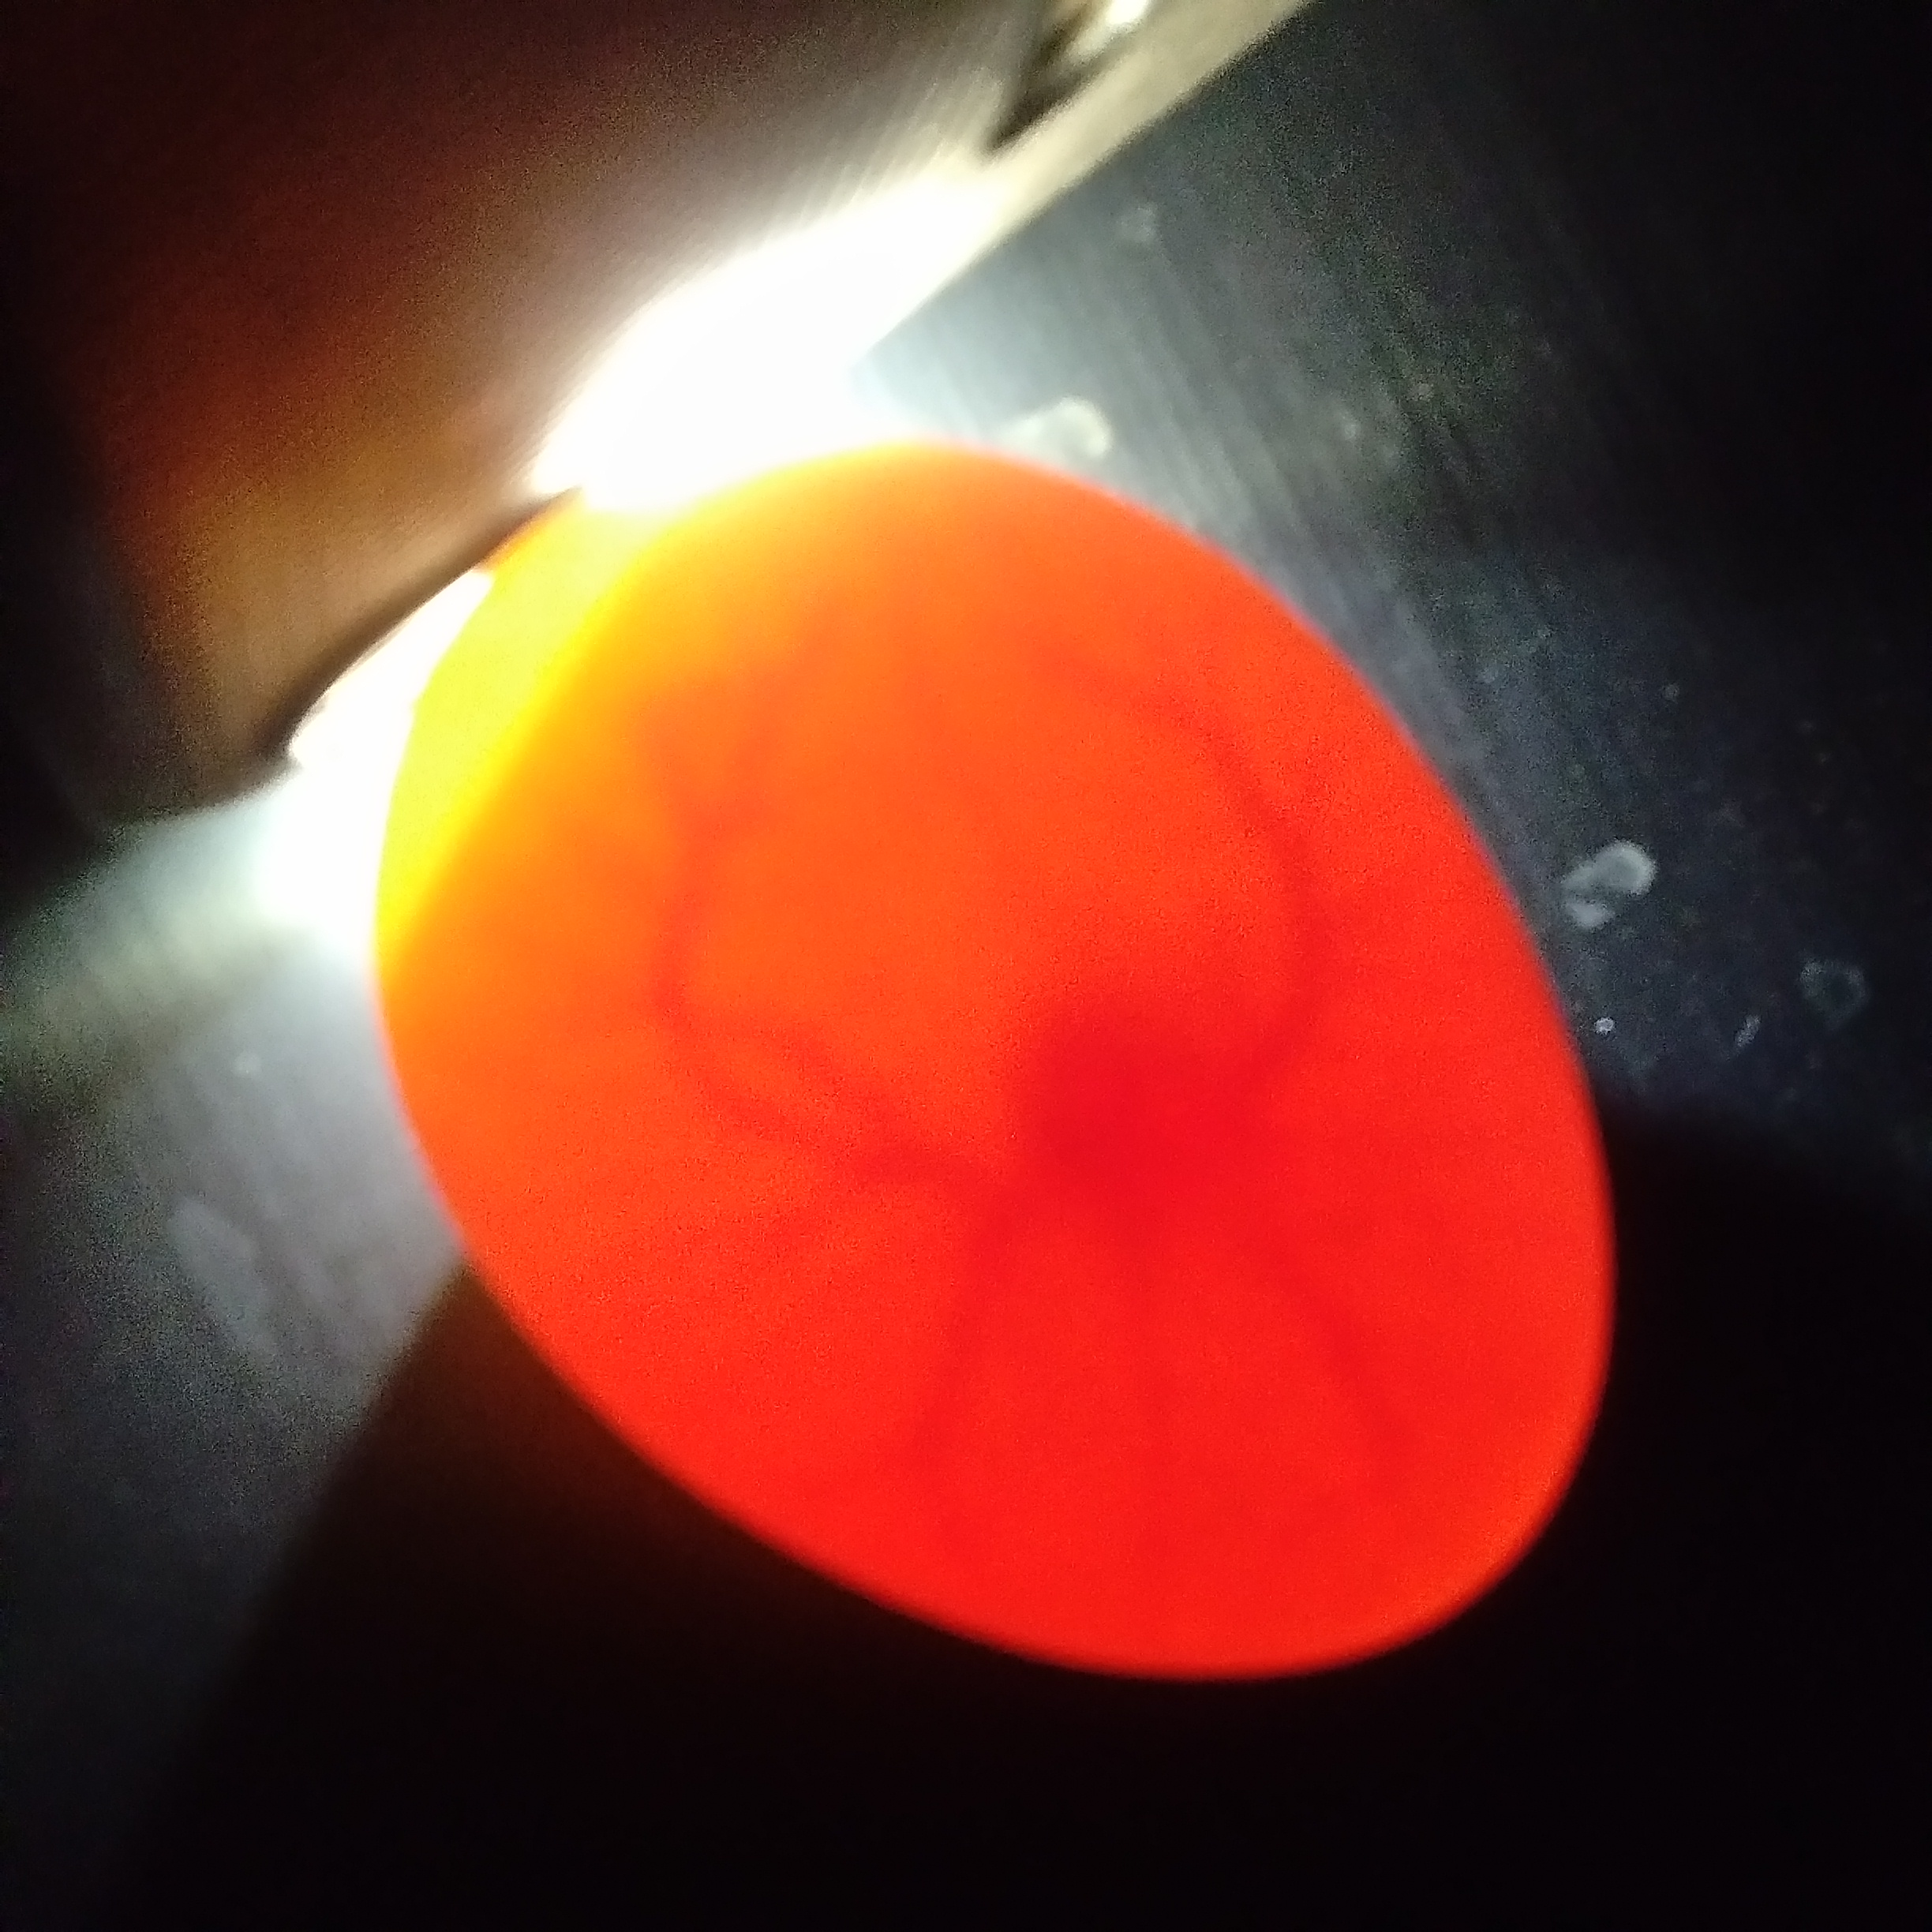bloodcell: (669, 640, 1003, 1391), (1099, 1325, 1502, 1603)
embryo: (1033, 996, 1240, 1240)
